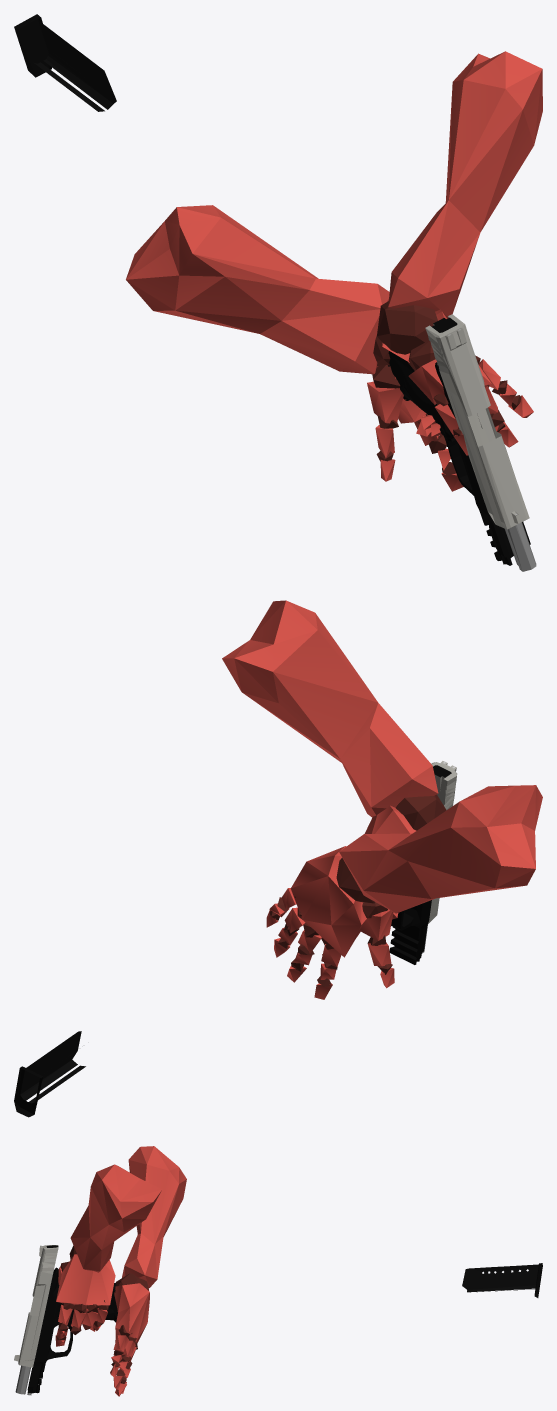
File: M&P9reloadNormal1lowP_000142.obj
3 views of the same model, one above another, from view 1: azimuth 30°, elevation 25°; view 2: azimuth 150°, elevation 25°; view 3: azimuth 270°, elevation 25° (orthographic). The views are drawn at different scales.
Visible parts, largest first — view 1: Beta_Surface.001_Beta_Surface.002, slide_平面.002, Beta_Joints.001_Beta_Joints.002, triger_平面.001, magazine_平面.003; view 2: Beta_Surface.001_Beta_Surface.002, Beta_Joints.001_Beta_Joints.002, magazine_平面.003, triger_平面.001, slide_平面.002; view 3: Beta_Surface.001_Beta_Surface.002, triger_平面.001, slide_平面.002, magazine_平面.003, Beta_Joints.001_Beta_Joints.002.
Boxes of the visible parts, <box> form: Beta_Surface.001_Beta_Surface.002: <box>126,51,542,491</box>; slide_平面.002: <box>425,314,529,529</box>; Beta_Joints.001_Beta_Joints.002: <box>372,301,520,476</box>; triger_平面.001: <box>388,351,536,571</box>; magazine_平面.003: <box>14,14,116,111</box>; Beta_Surface.001_Beta_Surface.002: <box>222,600,542,999</box>; Beta_Joints.001_Beta_Joints.002: <box>269,794,446,986</box>; magazine_平面.003: <box>14,1031,85,1117</box>; triger_平面.001: <box>389,900,431,964</box>; slide_平面.002: <box>428,761,457,923</box>; Beta_Surface.001_Beta_Surface.002: <box>55,1146,186,1396</box>; triger_平面.001: <box>15,1267,117,1395</box>; slide_平面.002: <box>14,1245,58,1367</box>; magazine_平面.003: <box>462,1263,542,1297</box>; Beta_Joints.001_Beta_Joints.002: <box>56,1245,148,1383</box>.
Size of the model in its own units: 62.89 by 71.22 by 138.
